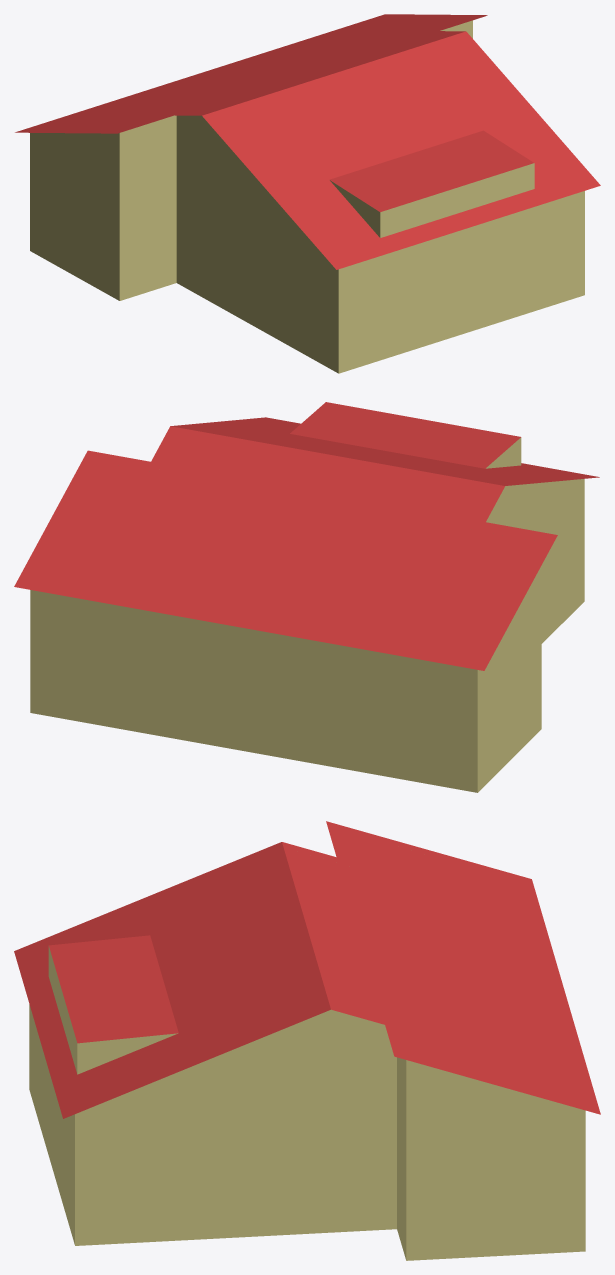
The picture shows the model from 3 angles, top to bottom: view 1: azimuth 30°, elevation 25°; view 2: azimuth 150°, elevation 25°; view 3: azimuth 270°, elevation 25°; orthographic projection. The views are drawn at different scales.
Size of the model in its own units: 31.72 by 31.92 by 13.73.
